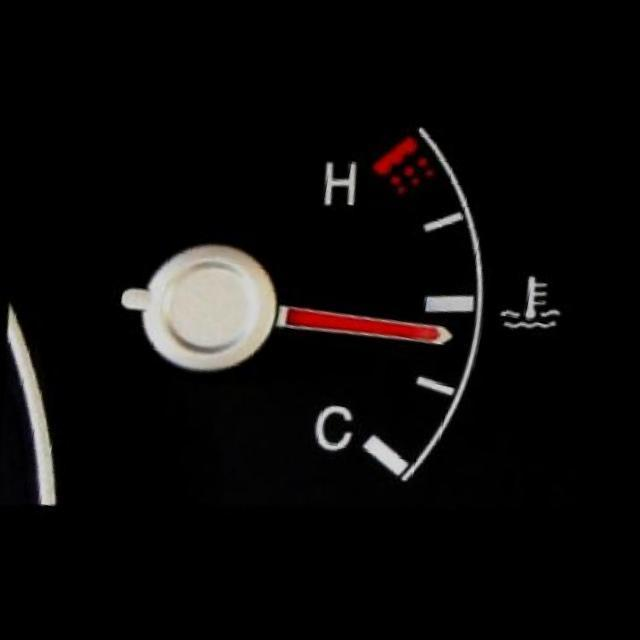Engine cooling system: (487, 269, 568, 348)
